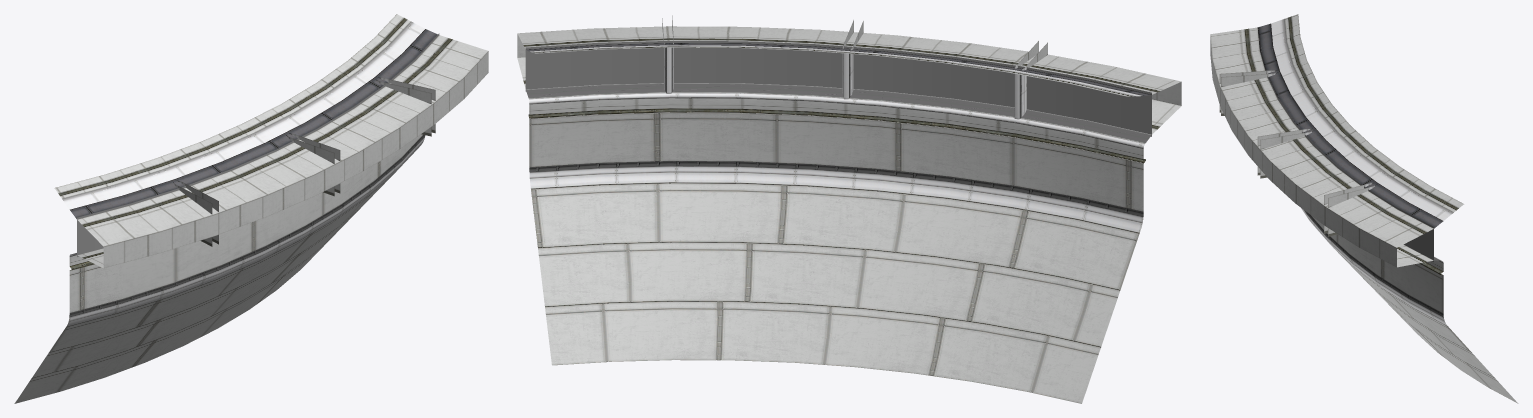
The model's file is Club_Shell_01.FBX.
3 views of the same model, side by side, from view 1: azimuth 30°, elevation 25°; view 2: azimuth 150°, elevation 25°; view 3: azimuth 270°, elevation 25° (orthographic). The views are drawn at different scales.
Parts seen in each view (by area): view 1: Club_Shell_01; view 2: Club_Shell_01; view 3: Club_Shell_01.
Boxes of the visible parts, x1,y1,x2,y2 form: Club_Shell_01: (14,14,488,403); Club_Shell_01: (517,15,1181,403); Club_Shell_01: (1210,14,1518,403).
Size of the model in its own units: 53.29 by 25.52 by 32.5.
